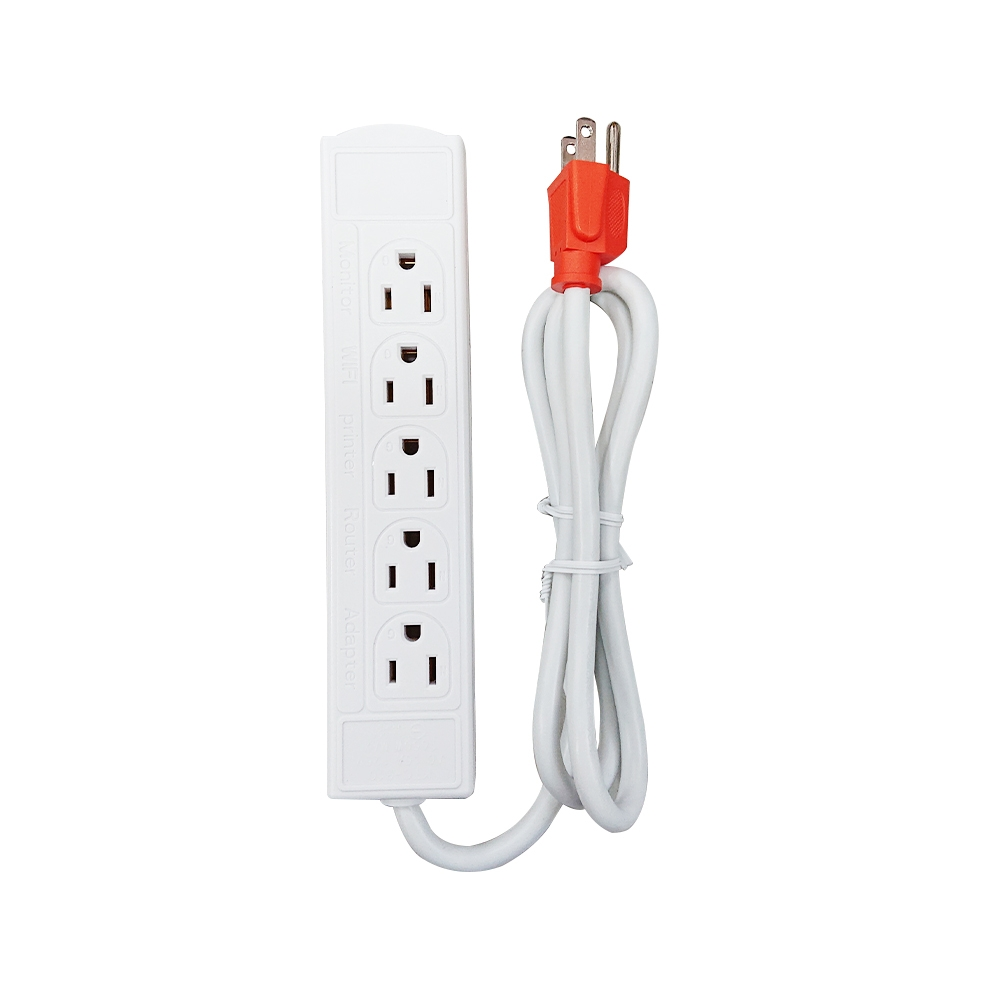socket: (318, 126, 467, 809)
